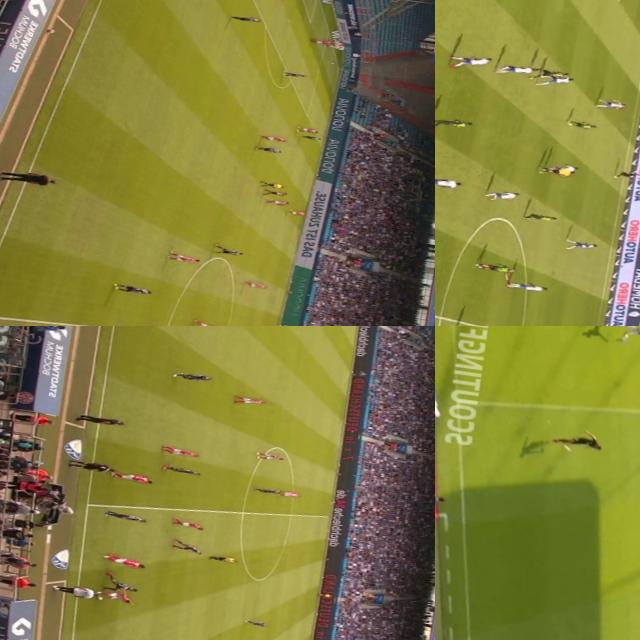ball: (92, 594, 107, 602), (560, 444, 572, 451), (328, 60, 334, 66)
player: (552, 428, 604, 452), (450, 52, 493, 71), (168, 538, 206, 558), (600, 326, 640, 345), (104, 508, 146, 526), (108, 470, 154, 486), (526, 67, 570, 83), (477, 262, 518, 279), (535, 73, 577, 89), (435, 117, 477, 132), (508, 280, 550, 295), (170, 368, 212, 383), (104, 576, 139, 594), (112, 282, 151, 298), (164, 444, 202, 460), (106, 554, 146, 569), (484, 188, 520, 204), (98, 588, 134, 604), (163, 464, 204, 478), (544, 161, 582, 176), (168, 518, 206, 533), (495, 62, 535, 76), (562, 118, 598, 132), (562, 238, 598, 252), (435, 172, 464, 189), (167, 251, 202, 264), (524, 212, 558, 224), (230, 12, 263, 24), (234, 395, 267, 407), (253, 144, 284, 156), (595, 98, 628, 109), (212, 246, 245, 256), (242, 616, 266, 629), (256, 452, 284, 463), (240, 280, 267, 291), (282, 70, 310, 80), (260, 134, 288, 144), (275, 490, 302, 500), (252, 486, 278, 496), (263, 198, 288, 208), (614, 170, 639, 180), (310, 38, 336, 47), (284, 209, 308, 218), (262, 190, 288, 198), (296, 126, 320, 134), (300, 134, 322, 142), (328, 43, 348, 51), (191, 321, 223, 326), (102, 637, 139, 640)
